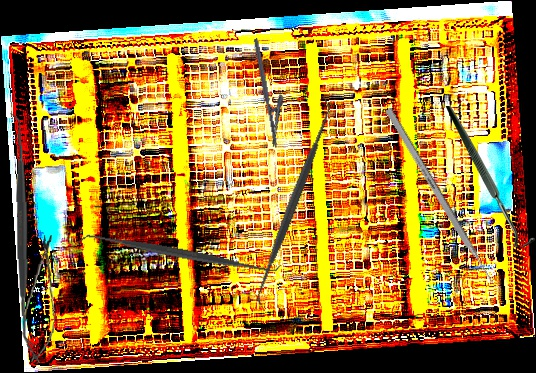Hook Surgical: (445, 106, 536, 247)
Micro Scissor: (19, 233, 63, 364)
Needle Holder: (253, 35, 292, 149)
Pusher: (384, 107, 502, 295)
Spatula Surgical: (243, 94, 344, 309), (77, 222, 282, 285), (7, 112, 38, 349)
